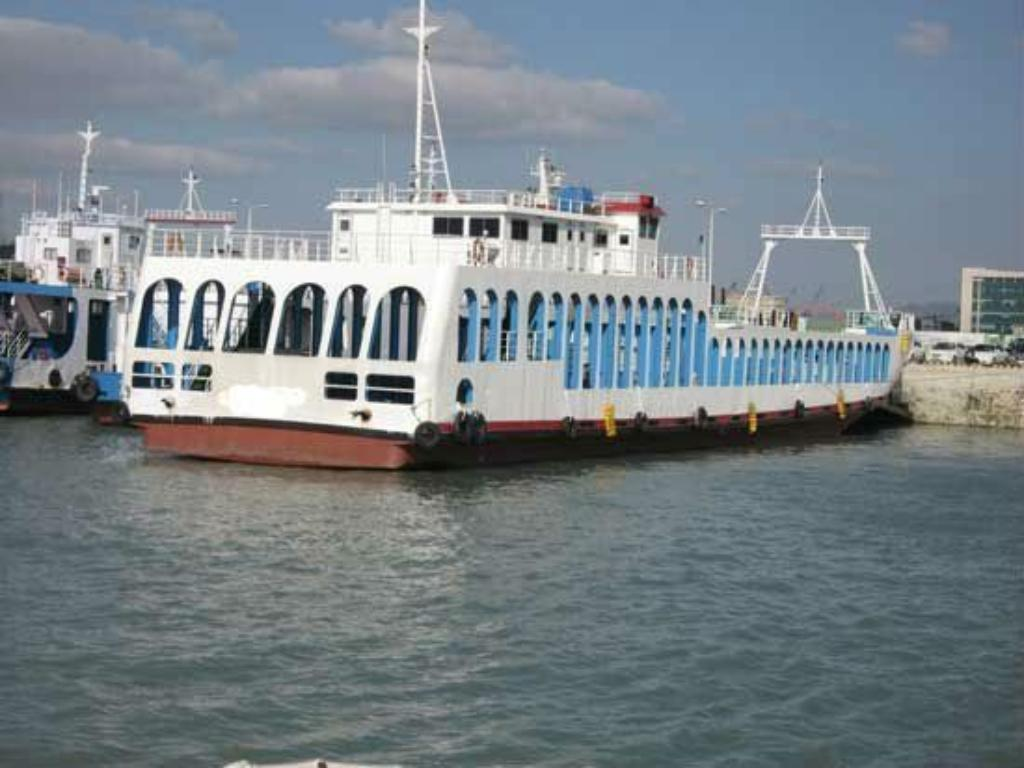PassengerShip: (118, 34, 908, 458)
